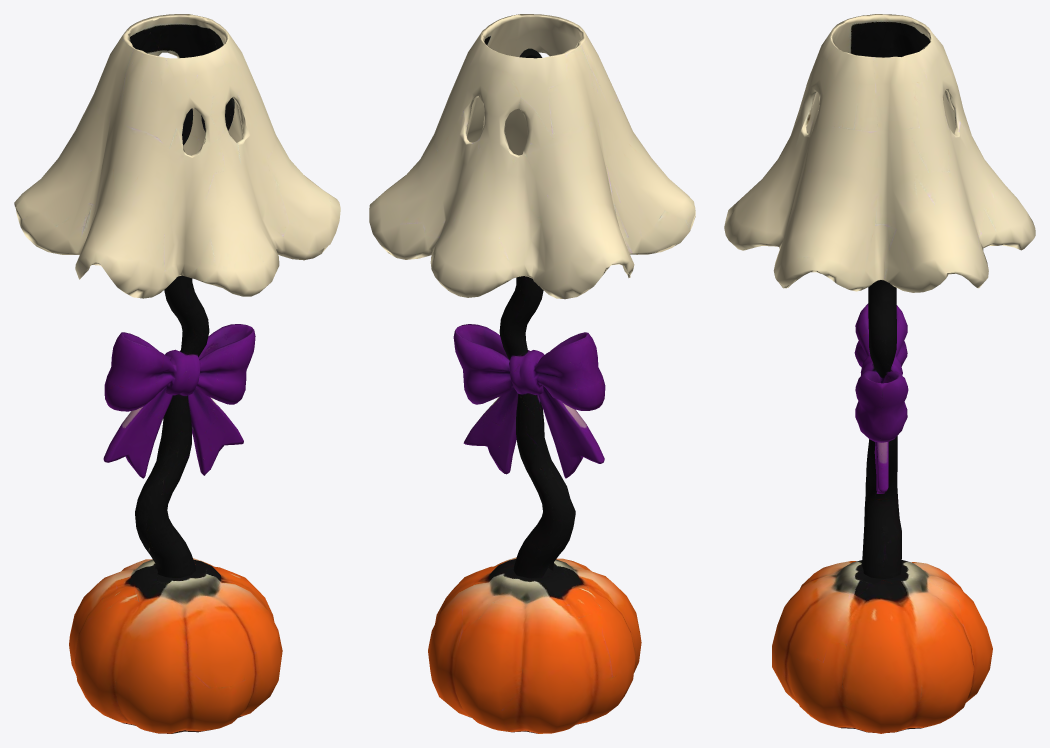
Rendered from halloween_ghost_floor_lamp.glb.
3 renders of one model, left to right at view 1: azimuth 30°, elevation 25°; view 2: azimuth 150°, elevation 25°; view 3: azimuth 270°, elevation 25°, orthographic.
Parts seen in each view (by area): view 1: furniture-fit; view 2: furniture-fit; view 3: furniture-fit.
Boxes of the visible parts, bbox=[...] form: furniture-fit: bbox=[14, 14, 340, 733]; furniture-fit: bbox=[369, 14, 695, 733]; furniture-fit: bbox=[724, 14, 1035, 733].
Bounding box in the file's own units: 1.06 × 2.65 × 1.12.
Materials: 1 (1 with a texture image).
